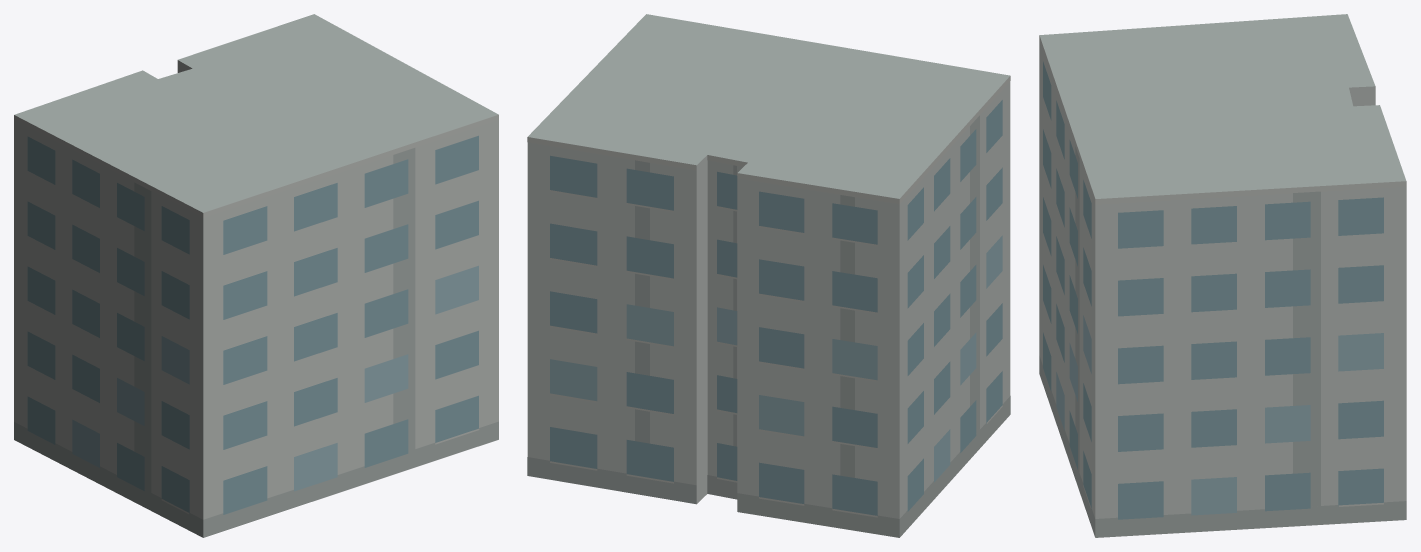
Rendered from survey-upis-32575711.glb.
The picture shows the model from 3 angles, left to right: view 1: azimuth 30°, elevation 25°; view 2: azimuth 150°, elevation 25°; view 3: azimuth 270°, elevation 25°; orthographic projection. The views are drawn at different scales.
Parts seen in each view (by area): view 1: survey-upis-32575711.tmp; view 2: survey-upis-32575711.tmp; view 3: survey-upis-32575711.tmp.
Boxes of the visible parts, x1,y1,x2,y2 form: survey-upis-32575711.tmp: [14, 14, 498, 537]; survey-upis-32575711.tmp: [527, 14, 1010, 537]; survey-upis-32575711.tmp: [1039, 14, 1406, 537].
Size of the model in its own units: 17.88 by 15.25 by 14.98.
